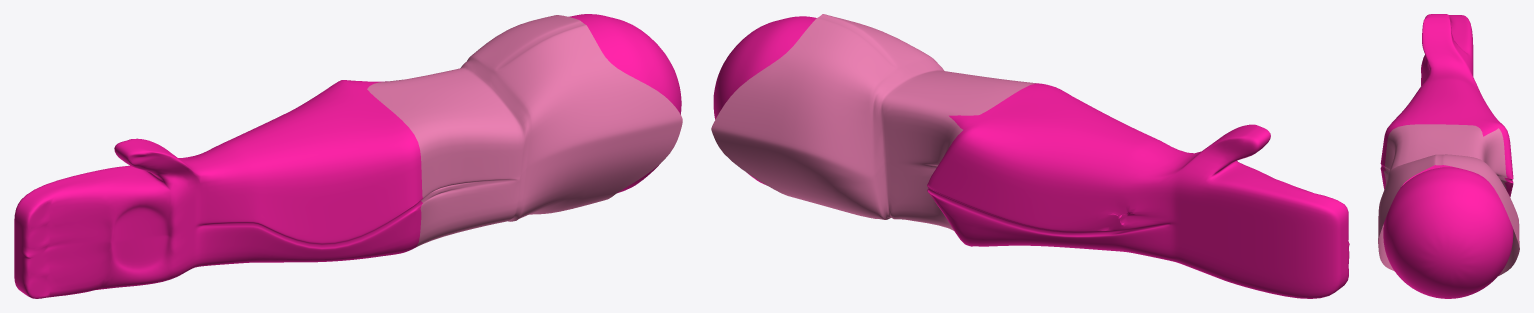
The model's file is arm_left.fbx.
3 views of the same model, side by side, from view 1: azimuth 30°, elevation 25°; view 2: azimuth 150°, elevation 25°; view 3: azimuth 270°, elevation 25° (orthographic). The views are drawn at different scales.
Visible parts, largest first — view 1: arm_left; view 2: arm_left; view 3: arm_left.
Part boxes in pixels (<box>): arm_left: <box>14,14,682,298</box>; arm_left: <box>711,14,1349,298</box>; arm_left: <box>1378,14,1519,298</box>.
Bounding box in the file's own units: 0.6062 × 0.1584 × 0.161.
